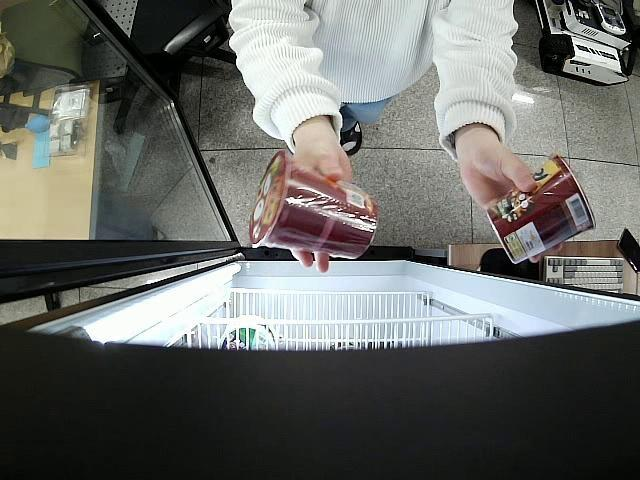06_nuguri_S: (248, 152, 379, 258), (488, 150, 596, 266)
